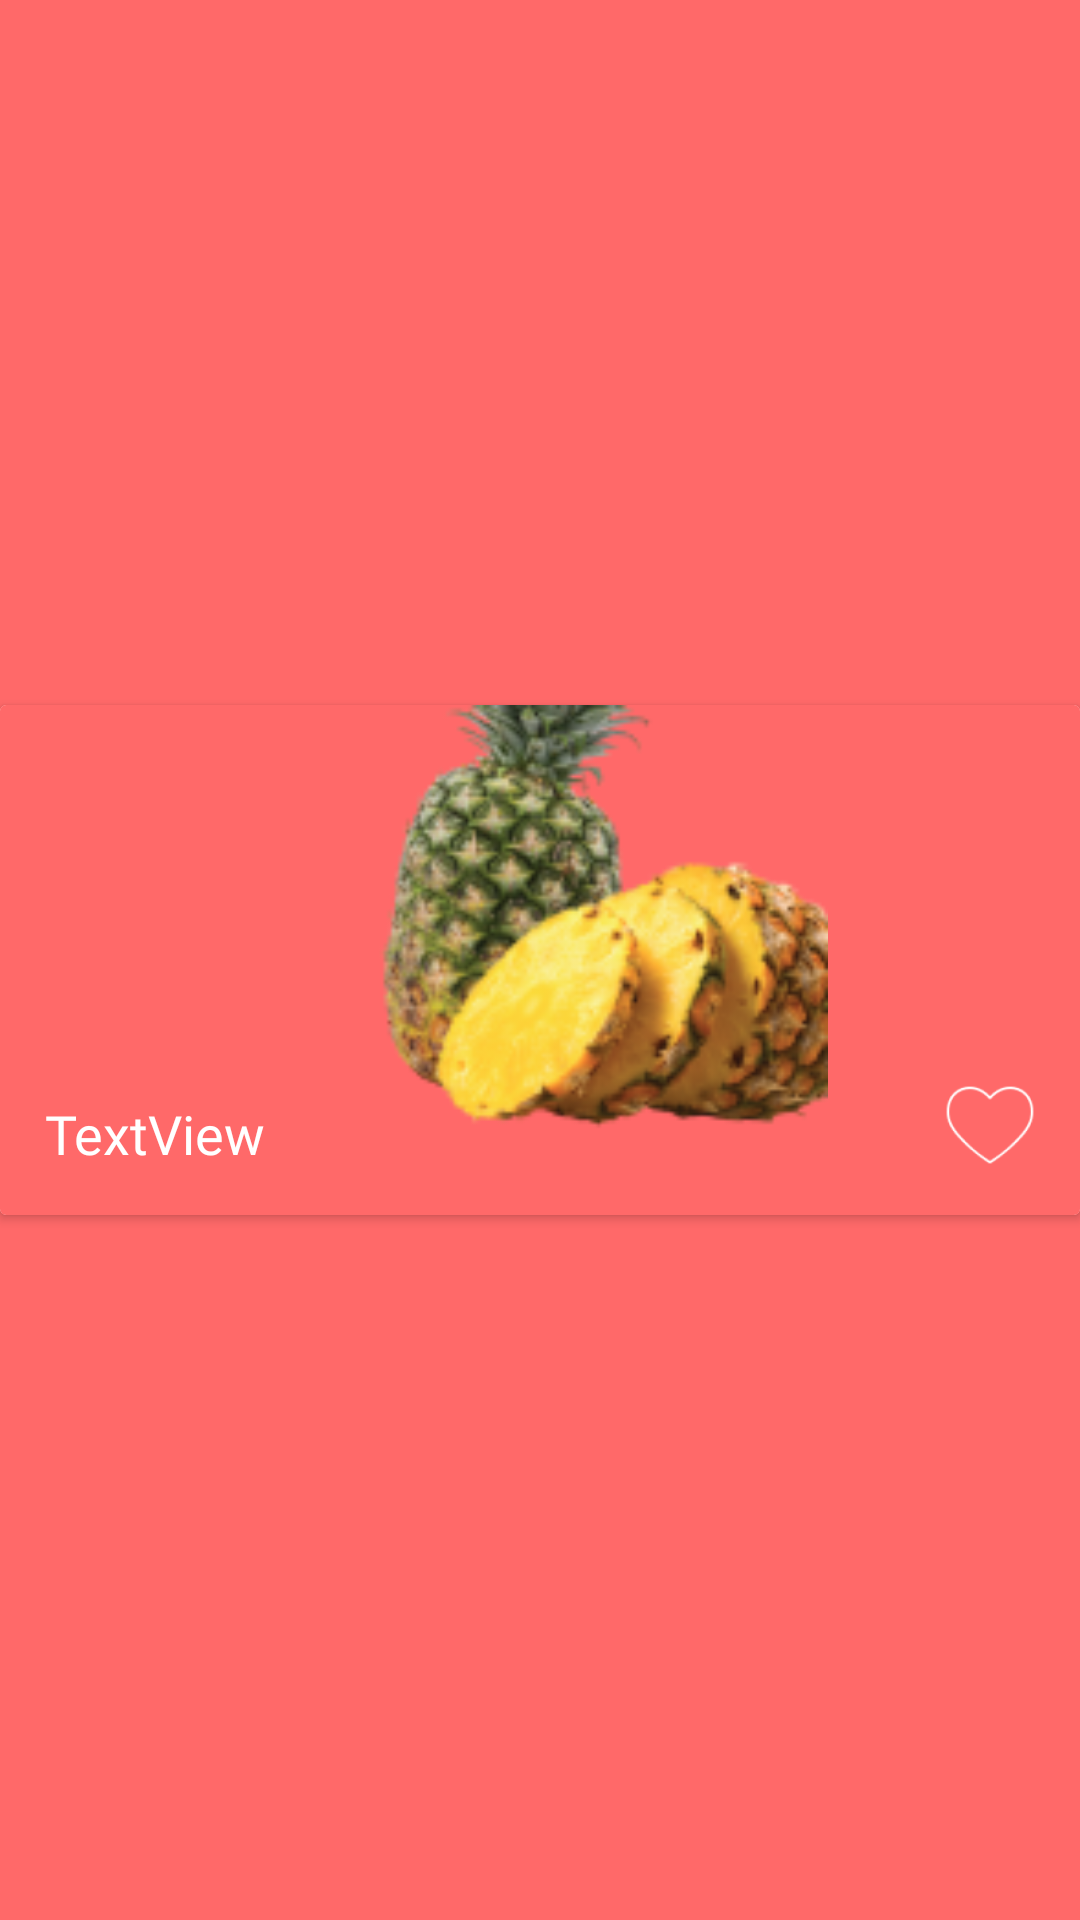

Locate icon controls on the screen. Image size 1080w x 1920h, boxes as bbox(x1, y1, x2, y2).
favorite: bbox(946, 1086, 1034, 1164)
